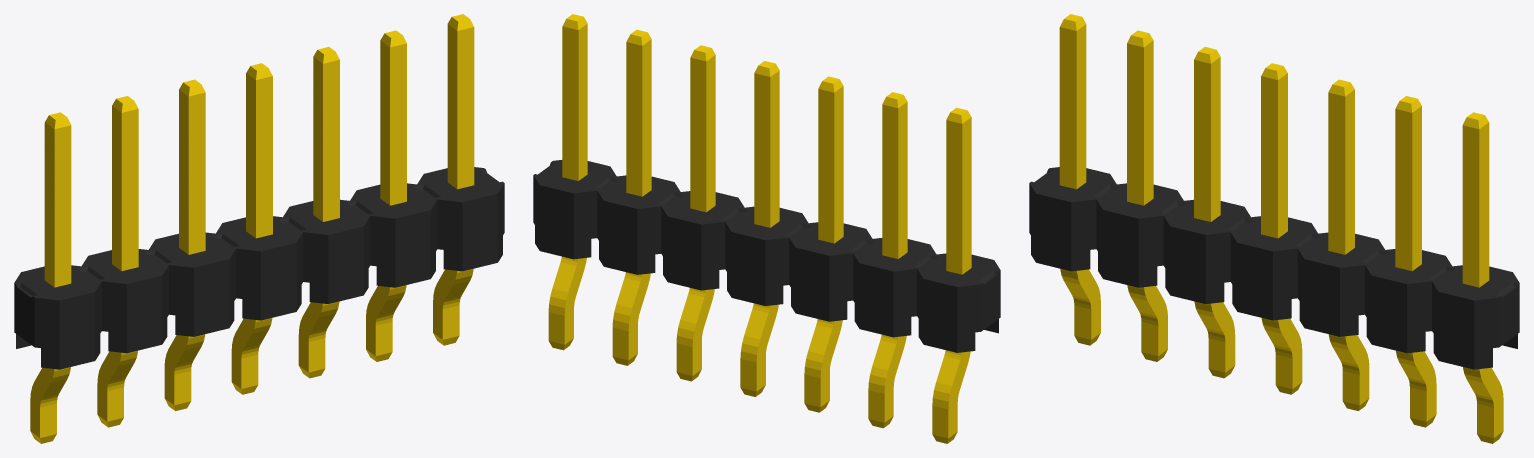
Rendered from DS1025 (PLS-07T CONNFLY).obj.
3 renders of one model, left to right at view 1: azimuth 30°, elevation 25°; view 2: azimuth 150°, elevation 25°; view 3: azimuth 330°, elevation 25°, orthographic. The views are drawn at different scales.
Visible parts, largest first — view 1: DS1025_(PLS-07T_CONNFLY); view 2: DS1025_(PLS-07T_CONNFLY); view 3: DS1025_(PLS-07T_CONNFLY).
Boxes of the visible parts, x1,y1,x2,y2 form: DS1025_(PLS-07T_CONNFLY): [14, 14, 504, 443]; DS1025_(PLS-07T_CONNFLY): [533, 14, 1000, 443]; DS1025_(PLS-07T_CONNFLY): [1029, 14, 1519, 443].
Bounding box in the file's own units: 0.0161 × 0.011 × 0.00231.
